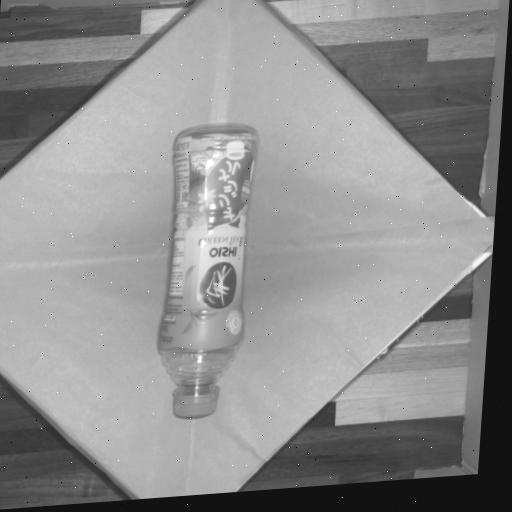bottle: (159, 128, 256, 417)
